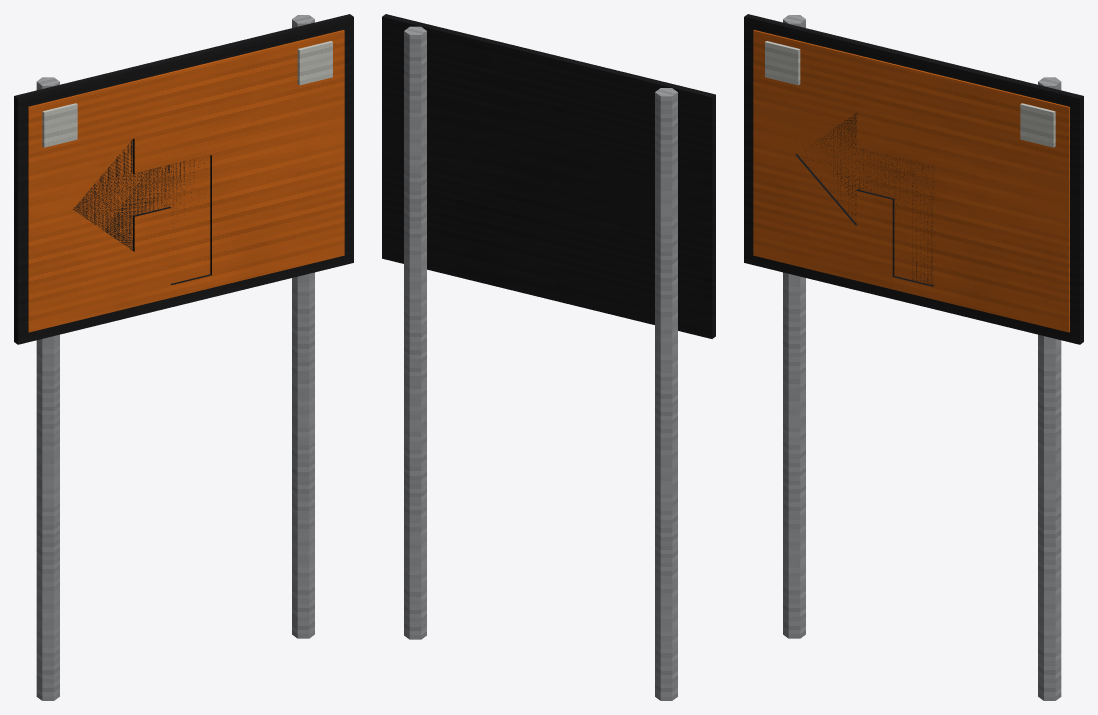
File: placa_obra_desvio.glb
The picture shows the model from 3 angles, left to right: view 1: azimuth 30°, elevation 25°; view 2: azimuth 150°, elevation 25°; view 3: azimuth 330°, elevation 25°; orthographic projection.
Visible parts, largest first — view 1: Inteiro; view 2: Inteiro; view 3: Inteiro.
Boxes of the visible parts, box(x1,y1,x2,y2) form: Inteiro: box(14, 14, 353, 700); Inteiro: box(382, 14, 715, 700); Inteiro: box(744, 14, 1083, 700).
Size of the model in its own units: 1 by 1.75 by 0.096.
Materials: 1 (1 with a texture image).
